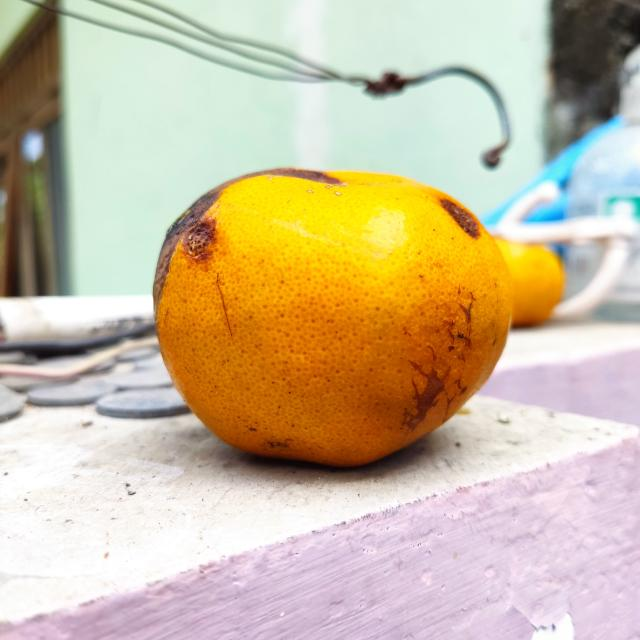orange: (152, 163, 515, 466)
